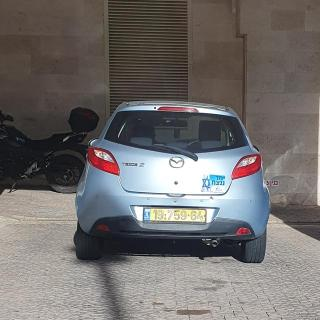LicensePlate: (151, 209, 206, 221)
